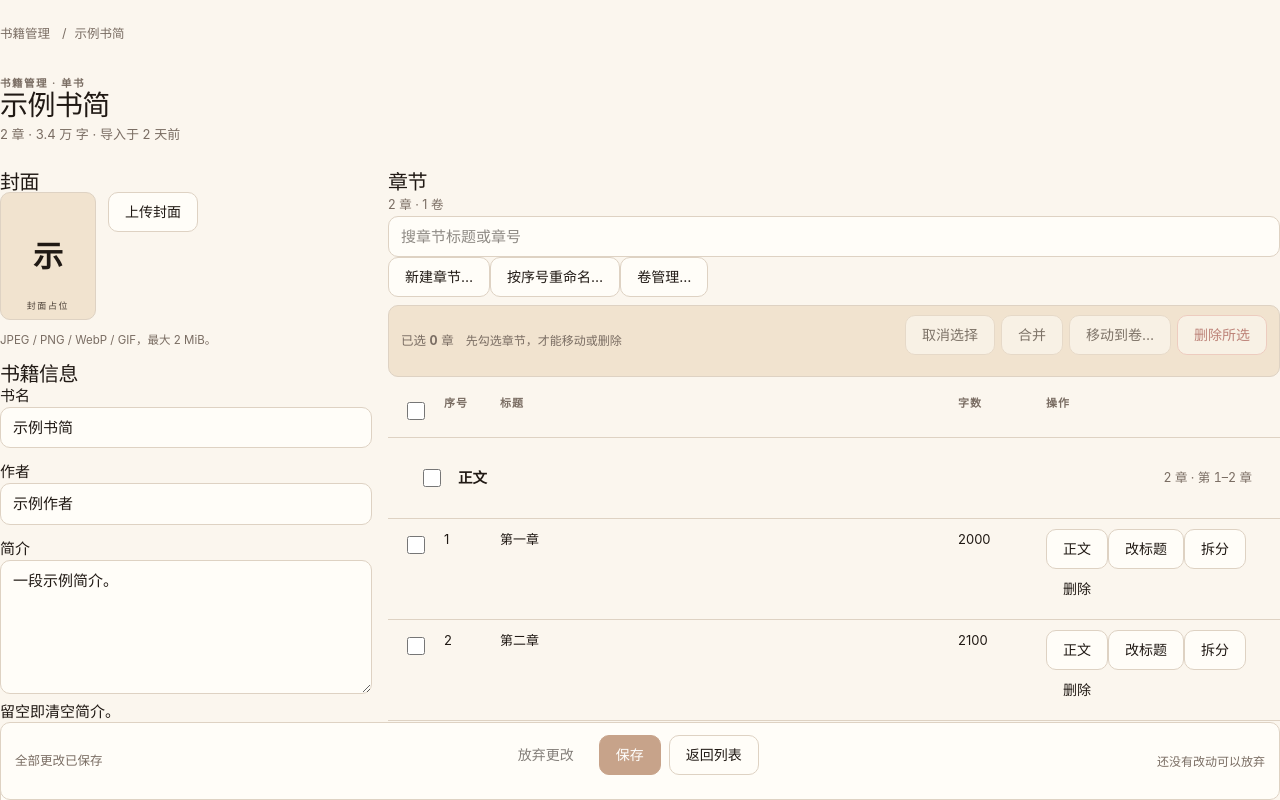
it: 单书管理页 › 章节删除走即时接口，弹层写明书名与章节名
Click the button with test id "admin-chapter-delete-10". click: (1077, 589)
box: [1046,569,1108,609]
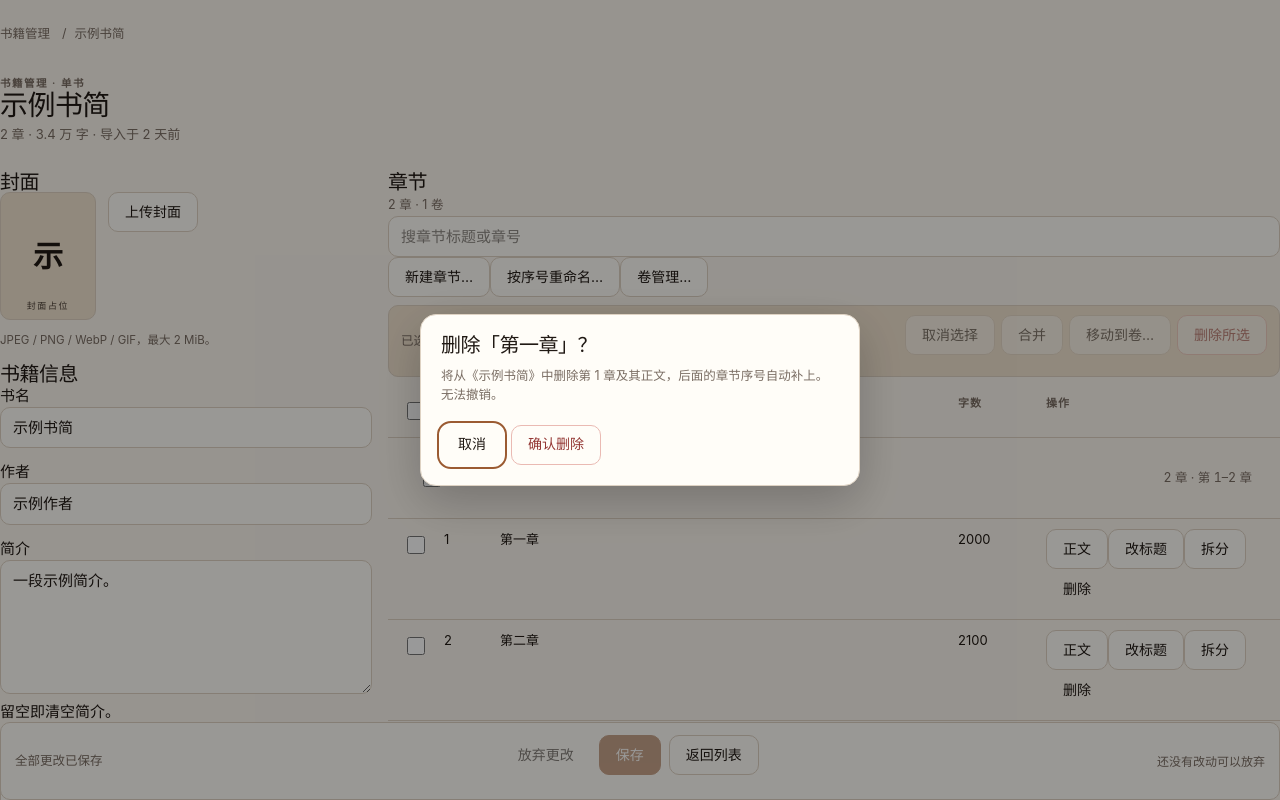
Expected: the dialog with test id "chapter-delete-dialog" shows "示例书简", [478,368,528,383]
Click the button with test id "chapter-delete-confirm". click: (556, 445)
box: [511,425,601,465]
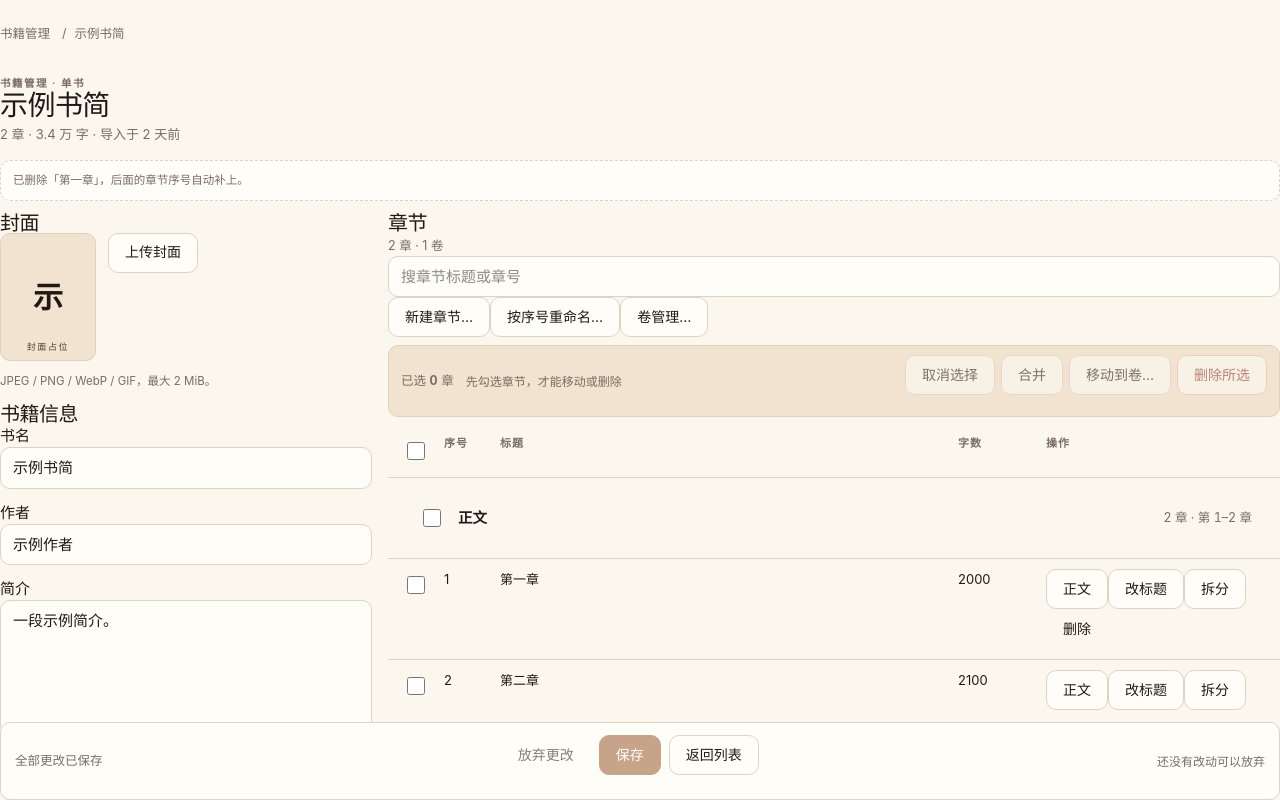
Expected: the message with test id "admin-book-banner" shows "已删除", [13,173,249,187]
